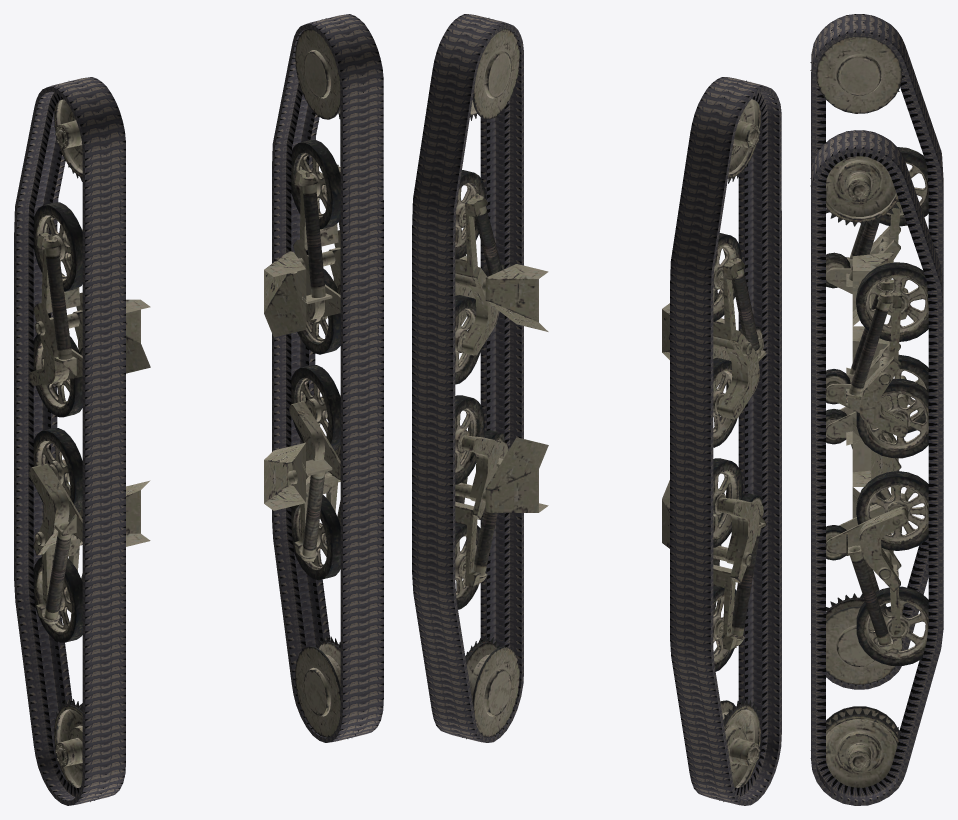
The model's file is Chassis.glb.
3 views of the same model, side by side, from view 1: azimuth 30°, elevation 25°; view 2: azimuth 150°, elevation 25°; view 3: azimuth 270°, elevation 25° (orthographic). The views are drawn at different scales.
Parts seen in each view (by area): view 1: set_0_group_0, set_1_group_0, set_3_group_0, set_2_group_0; view 2: set_0_group_0, set_1_group_0, set_3_group_0, set_2_group_0; view 3: set_3_group_0, set_1_group_0, set_2_group_0, set_0_group_0.
Part boxes in pixels (<box>): set_0_group_0: <box>14,77,125,805</box>; set_1_group_0: <box>272,14,383,742</box>; set_3_group_0: <box>264,18,363,738</box>; set_2_group_0: <box>29,81,150,801</box>; set_0_group_0: <box>670,77,781,805</box>; set_1_group_0: <box>412,14,523,742</box>; set_3_group_0: <box>452,18,548,739</box>; set_2_group_0: <box>662,80,766,801</box>; set_3_group_0: <box>810,138,928,787</box>; set_1_group_0: <box>811,130,943,805</box>; set_2_group_0: <box>810,22,928,684</box>; set_0_group_0: <box>811,14,943,689</box>.
Size of the model in its own units: 1.85 by 4.03 by 0.737.
Materials: 4 (4 with a texture image).
